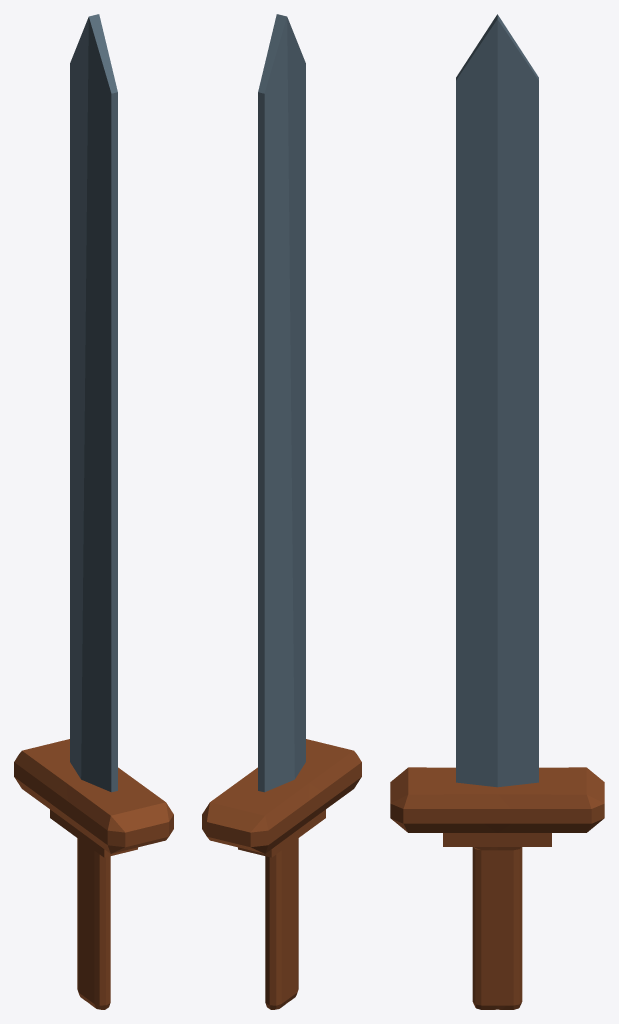
Rendered from sword.fbx.
3 renders of one model, left to right at view 1: azimuth 30°, elevation 25°; view 2: azimuth 150°, elevation 25°; view 3: azimuth 270°, elevation 25°, orthographic.
Visible parts, largest first — view 1: Cube; view 2: Cube; view 3: Cube.
Boxes of the visible parts, x1,y1,x2,y2 form: Cube: [14, 14, 173, 1009]; Cube: [202, 14, 361, 1009]; Cube: [390, 14, 604, 1009].
Bounding box in the file's own units: 37.64 × 537 × 105.
